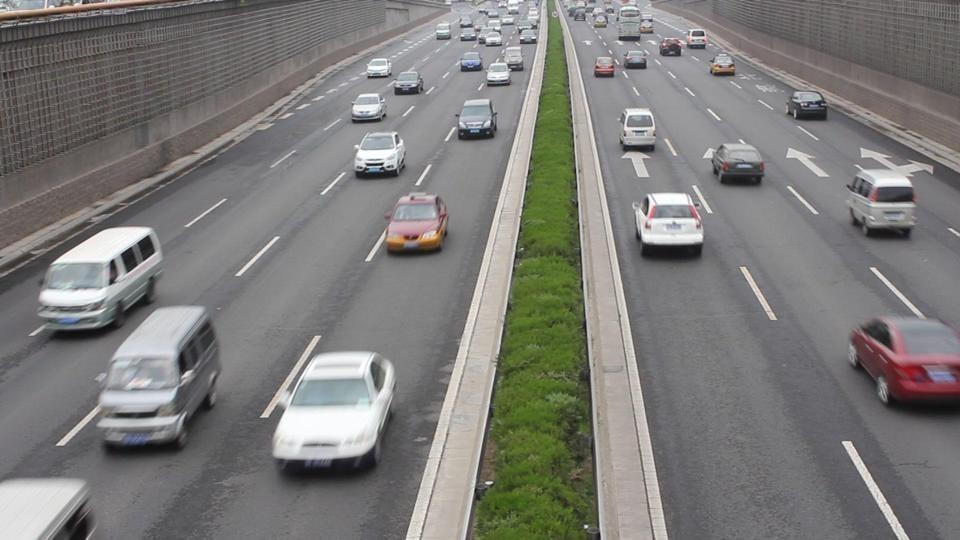car: (95, 305, 223, 453), (270, 350, 397, 476), (35, 225, 166, 332), (847, 315, 960, 408), (0, 476, 100, 537), (841, 163, 918, 237), (632, 190, 705, 258), (384, 192, 450, 254), (707, 142, 767, 186), (353, 131, 408, 178), (618, 107, 658, 152), (457, 98, 498, 140), (784, 89, 827, 120), (350, 93, 388, 123), (393, 70, 424, 95), (708, 52, 737, 76), (485, 62, 512, 86), (623, 47, 648, 70), (366, 57, 392, 78), (593, 55, 616, 78), (503, 46, 524, 71), (460, 51, 483, 72), (659, 37, 683, 57), (687, 28, 708, 49)
